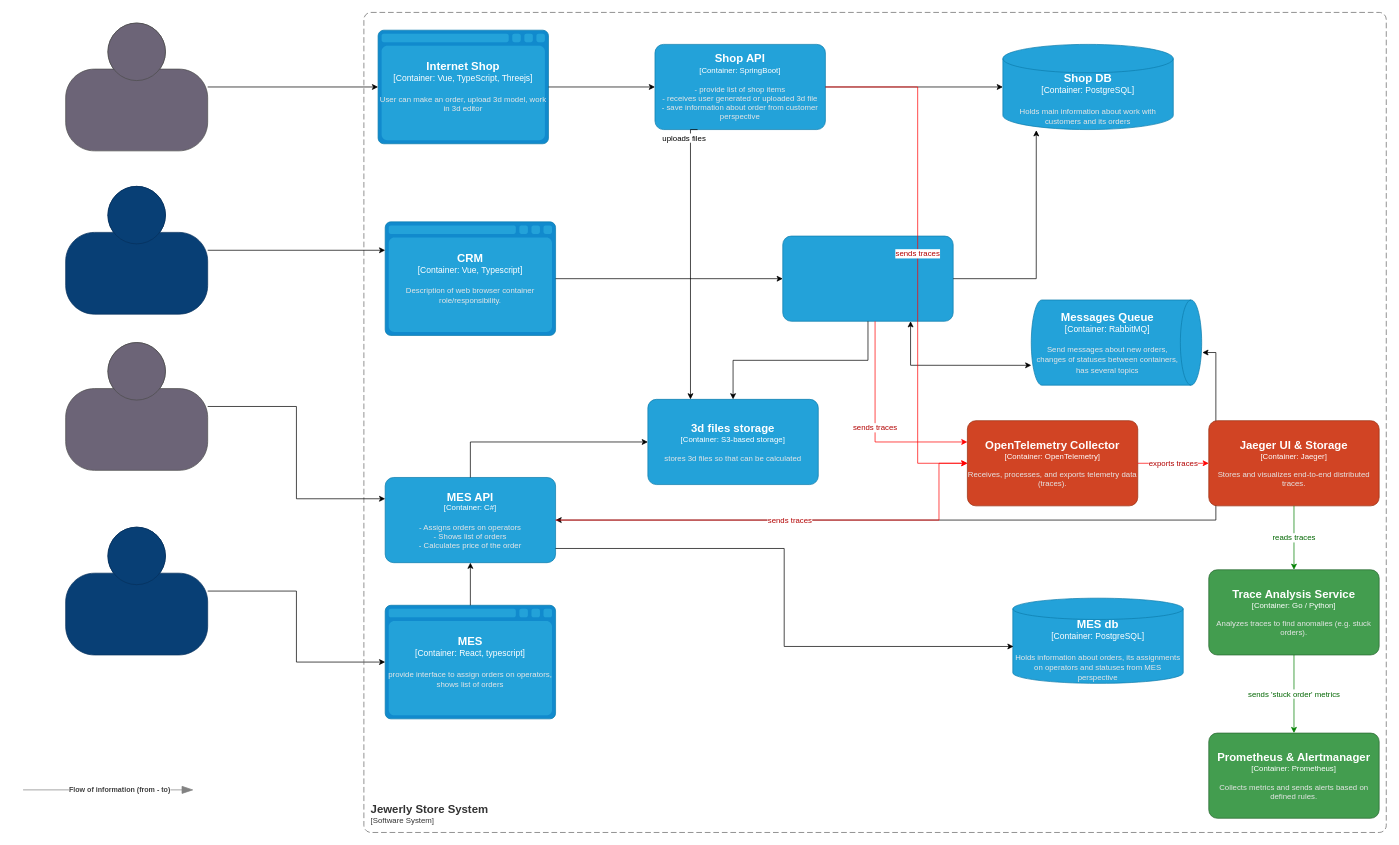
Some shapes in this 1399 by 845 pixel diagram are drawn without their labels. Here are the shapes that lost their labels. From the top down, the centre of each, then its label:
the point at 136,86: Customer [Person] Description of external person.
the point at 136,250: Seller [Person] Operates with order, confirms manufacturing for the user
the point at 867,278: CRM API [Container: SpringBoot] Description of container role/responsibility.
the point at 136,406: API user [Person] Description of external person.
the point at 136,590: Operator [Person] Takes order in work, manufactures jewerly
